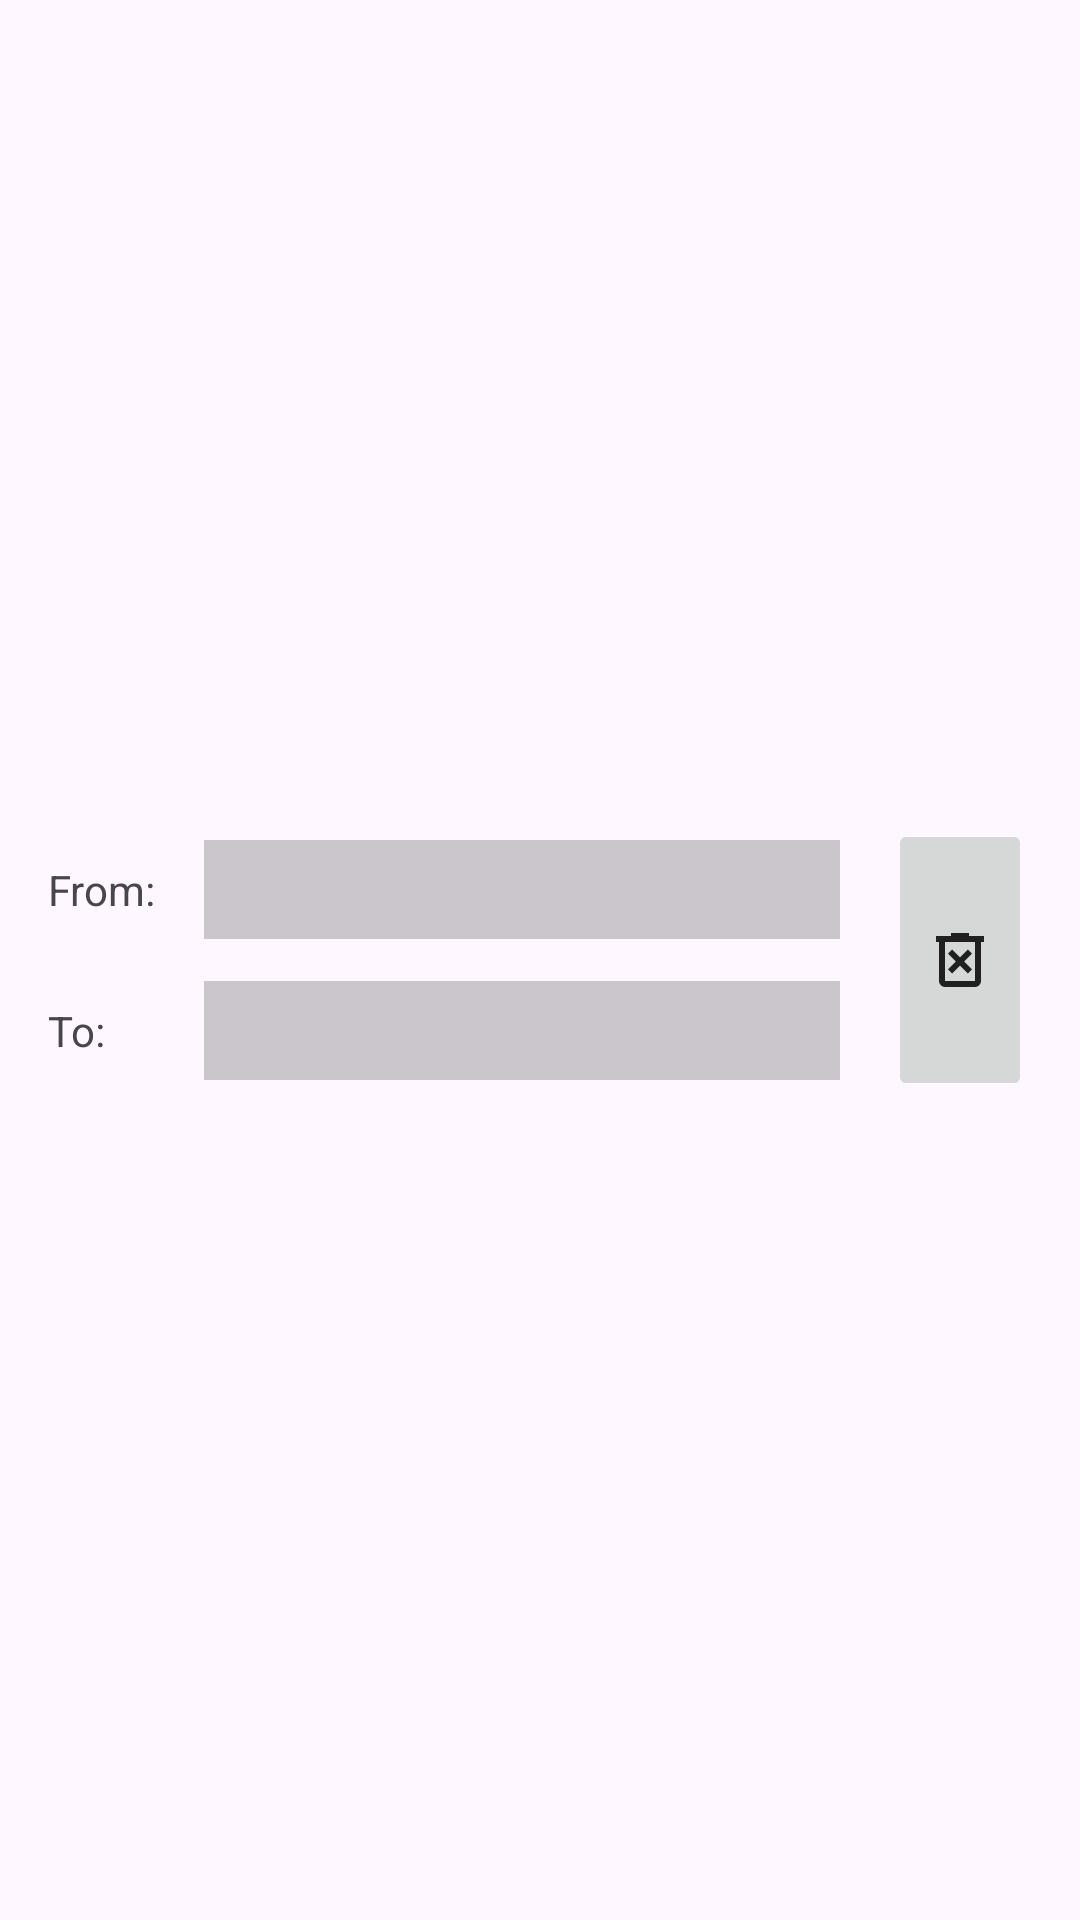

Screen size 1080px×1920px. Icon name, then its center in pixels as (x=x, y=y):
Delete: (x=960, y=960)
